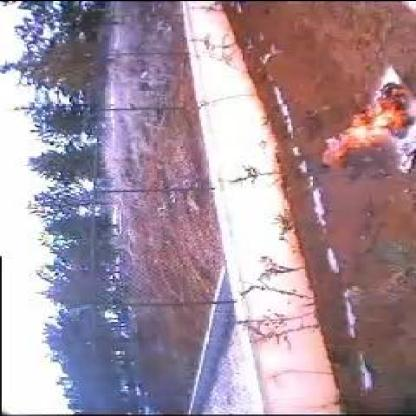-: (335, 165, 391, 182)
foggia-v2-map80-epoch100 - v1 4323: (324, 91, 407, 157)
